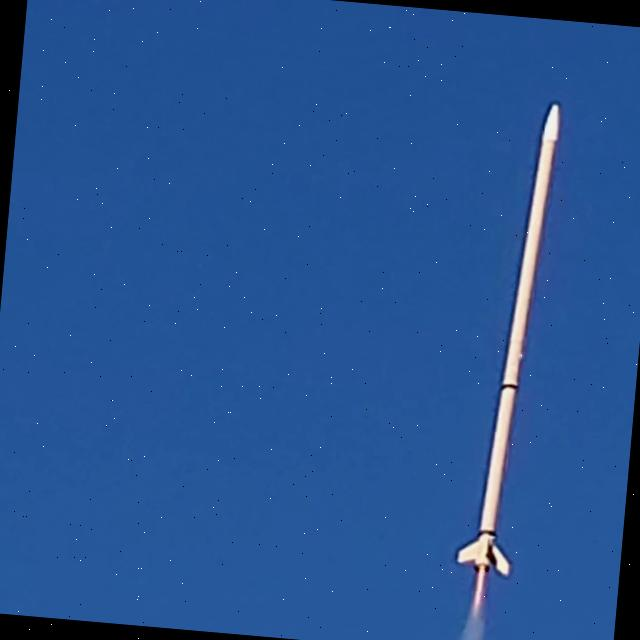rocket: (456, 104, 561, 613)
